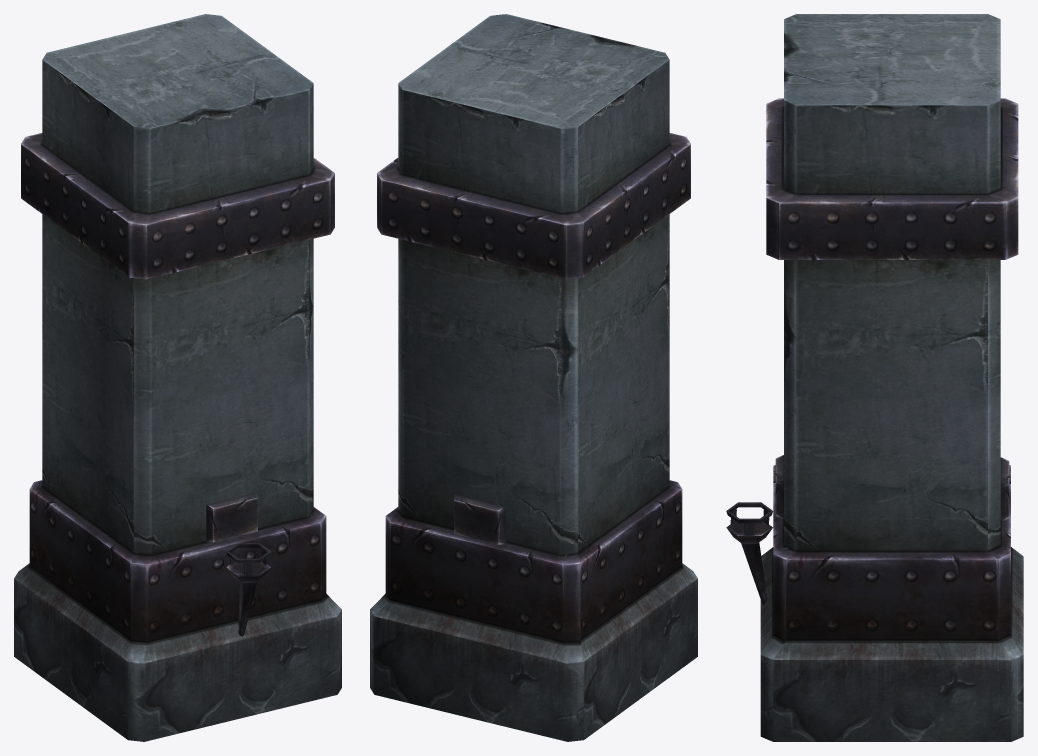
The model's file is B_shikuai016.fbx.
3 renders of one model, left to right at view 1: azimuth 30°, elevation 25°; view 2: azimuth 150°, elevation 25°; view 3: azimuth 270°, elevation 25°, orthographic. The views are drawn at different scales.
Visible parts, largest first — view 1: B_shikuai016; view 2: B_shikuai016; view 3: B_shikuai016.
Part boxes in pixels (<box>): B_shikuai016: <box>14,14,341,741</box>; B_shikuai016: <box>370,14,697,741</box>; B_shikuai016: <box>726,14,1023,741</box>.
Bounding box in the file's own units: 172 × 461 × 198.
